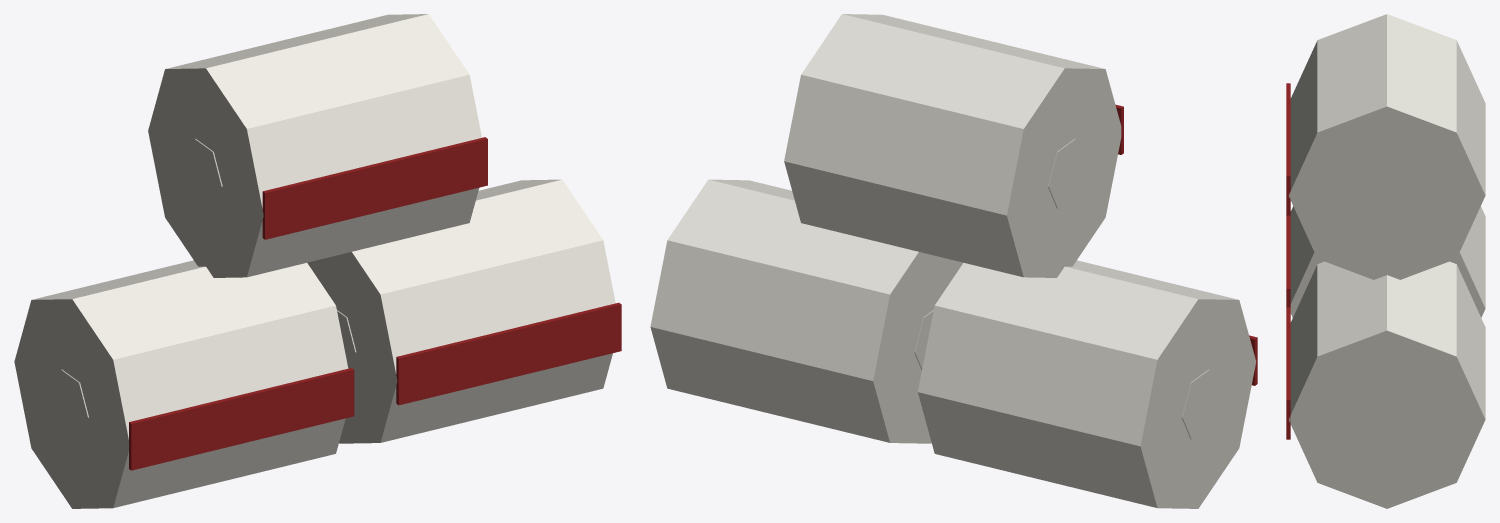
Rendered from SM_Item_Bende.glb.
The picture shows the model from 3 angles, left to right: view 1: azimuth 30°, elevation 25°; view 2: azimuth 150°, elevation 25°; view 3: azimuth 270°, elevation 25°; orthographic projection. The views are drawn at different scales.
Parts seen in each view (by area): view 1: Item; view 2: Item; view 3: Item.
Boxes of the visible parts, x1,y1,x2,y2 form: Item: (14, 14, 621, 508); Item: (650, 14, 1257, 508); Item: (1286, 14, 1485, 508).
Size of what is drawn, in the model's own units: 0.221 by 0.175 by 0.091.
Materials: 1 (1 with a texture image).
